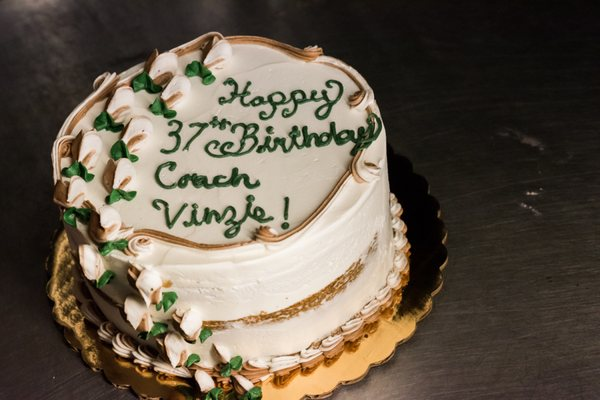curry: (5, 2, 597, 392)
sushi: (44, 29, 426, 393)
